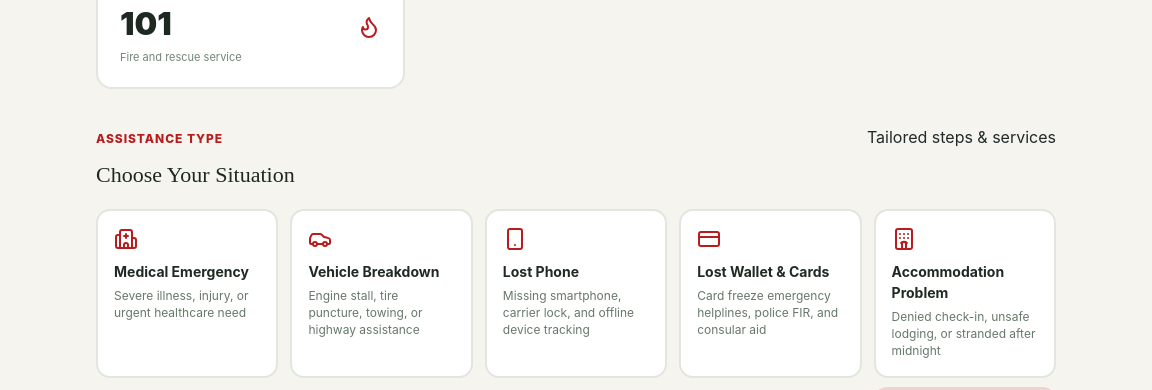
Test: EmergencyPage › switches category when selecting Medical Emergency and updates guidance
This screenshot has width=1152, height=390.
(page scrolled)
Step 1. Click the radio button labelled "Medical Emergency" → coordinates (187, 294), box top-left (96, 209), bottom-right (278, 378)
(page scrolled)
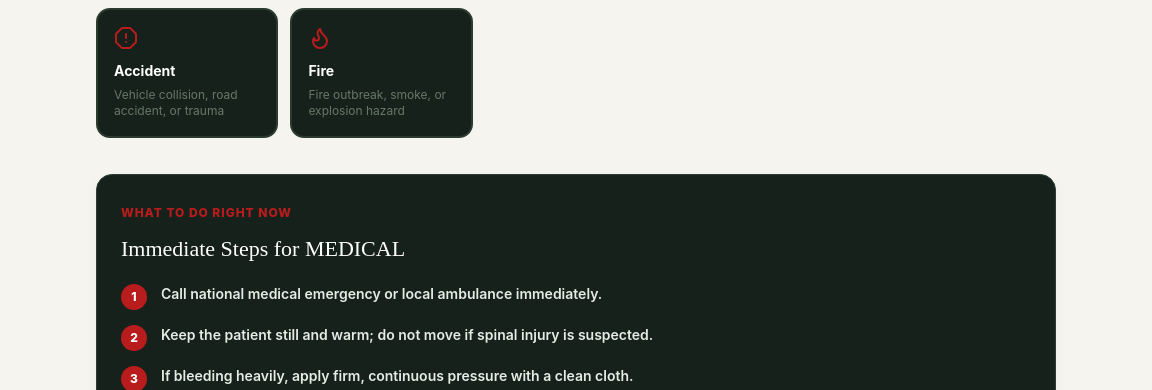
Check: the text "Call national medical emergency or local ambulance immediately" is shown, box top-left (161, 285), bottom-right (602, 302)
